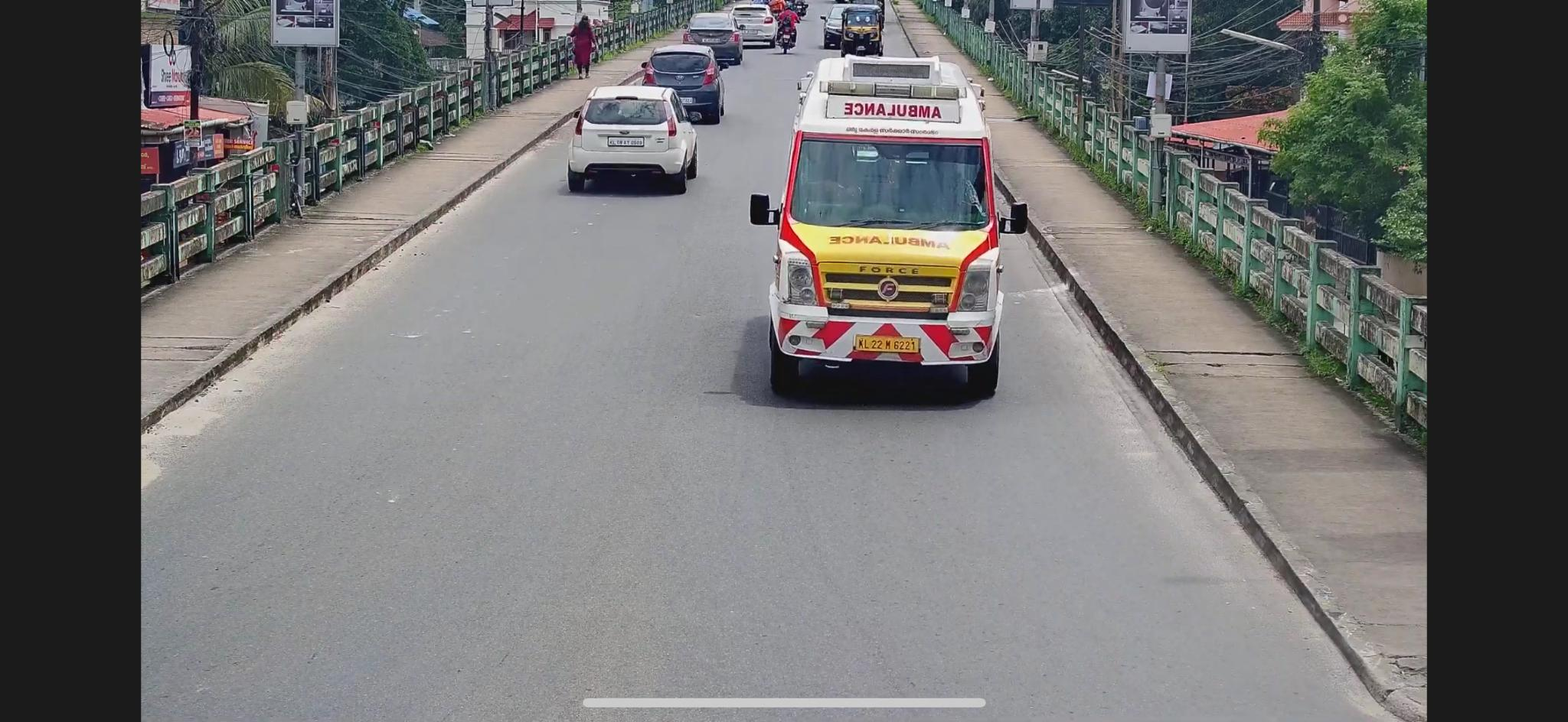ambulance: (749, 47, 1018, 398)
